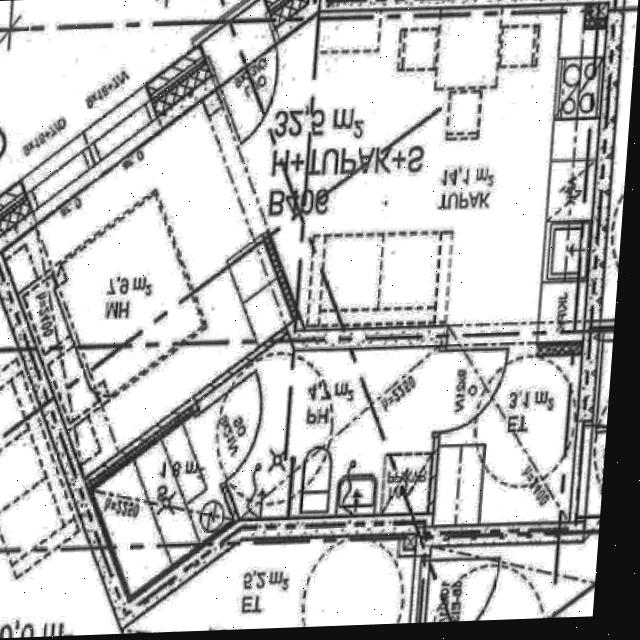room: (190, 328, 439, 531), (67, 414, 257, 595), (433, 337, 583, 534)
